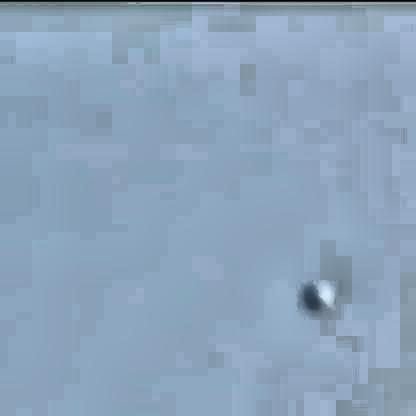golfball: (299, 274, 329, 310)
